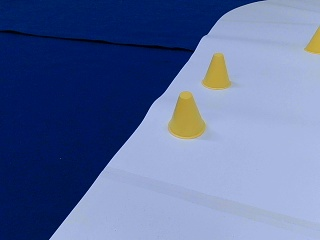cone: (169, 92, 206, 138), (201, 54, 232, 89), (304, 26, 319, 53)
